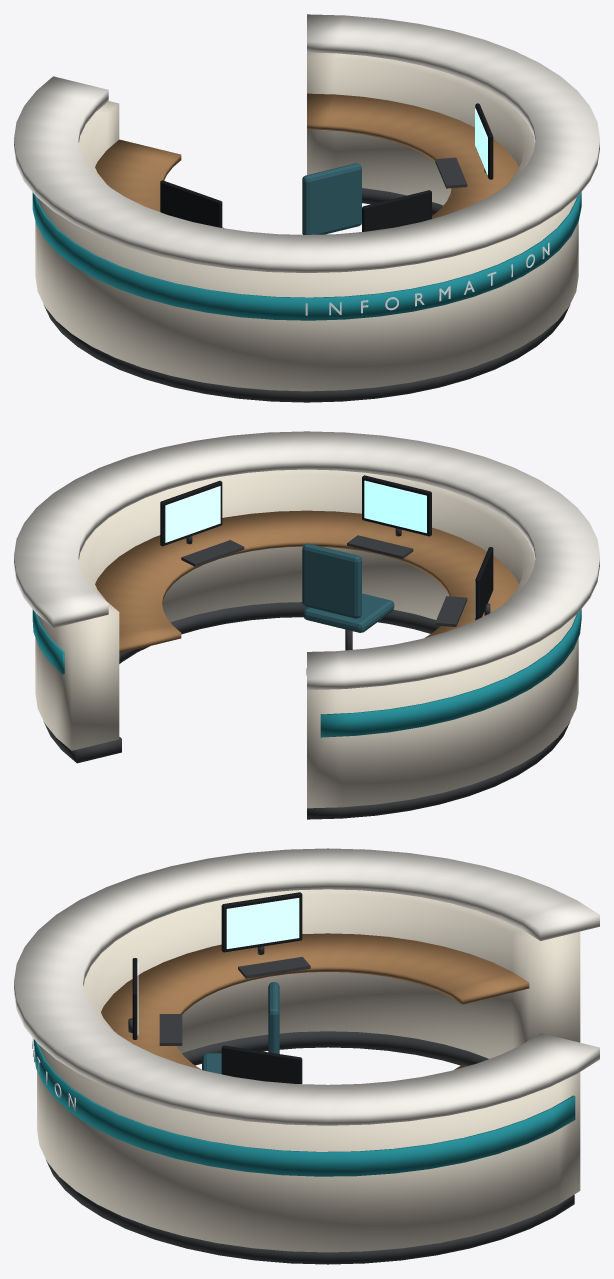
Rendered from round_reception_desk.glb.
3 views of the same model, one above another, from view 1: azimuth 30°, elevation 25°; view 2: azimuth 150°, elevation 25°; view 3: azimuth 270°, elevation 25° (orthographic). The views are drawn at different scales.
Parts seen in each view (by area): view 1: RoundDesk_body, RoundDesk_ledge, RoundDesk_worktop, RoundDesk_band, RoundDesk_plinth, RoundDesk_chairBack, RoundDesk_mon0, RoundDesk_mon1, RoundDesk_kb2, RoundDesk_monGlow2; view 2: RoundDesk_body, RoundDesk_ledge, RoundDesk_worktop, RoundDesk_band, RoundDesk_plinth, RoundDesk_chairBack, RoundDesk_monGlow0, RoundDesk_monGlow2, RoundDesk_chairSeat, RoundDesk_mon1, RoundDesk_mon0, RoundDesk_mon2 (+3 smaller); view 3: RoundDesk_body, RoundDesk_ledge, RoundDesk_worktop, RoundDesk_band, RoundDesk_plinth, RoundDesk_monGlow1, RoundDesk_mon2, RoundDesk_mon1, RoundDesk_kb1, RoundDesk_chairBack, RoundDesk_kb0.
Part boxes in pixels (x1,y1,x2,y2): RoundDesk_body: (35,52,578,391); RoundDesk_ledge: (14,14,599,272); RoundDesk_worktop: (95,93,518,218); RoundDesk_band: (32,192,581,320); RoundDesk_plinth: (44,188,569,402); RoundDesk_chairBack: (302,163,361,234); RoundDesk_mon0: (362,190,431,231); RoundDesk_mon1: (160,180,222,227); RoundDesk_kb2: (435,157,467,188); RoundDesk_monGlow2: (475,108,487,175); RoundDesk_body: (35,469,578,808); RoundDesk_ledge: (14,431,599,689); RoundDesk_worktop: (95,510,518,653); RoundDesk_band: (32,609,581,737); RoundDesk_plinth: (44,602,569,819); RoundDesk_chairBack: (302,543,361,618); RoundDesk_monGlow0: (364,480,426,533); RoundDesk_monGlow2: (165,486,220,542); RoundDesk_chairSeat: (303,593,394,632); RoundDesk_mon1: (475,547,493,620); RoundDesk_mon0: (362,475,431,536); RoundDesk_mon2: (160,480,222,546); RoundDesk_body: (37,889,580,1252); RoundDesk_ledge: (14,848,599,1125); RoundDesk_worktop: (101,933,529,1069); RoundDesk_band: (33,1039,575,1176); RoundDesk_plinth: (46,1031,574,1264); RoundDesk_monGlow1: (226,898,299,948); RoundDesk_mon2: (221,1045,302,1083); RoundDesk_mon1: (221,892,302,952); RoundDesk_kb1: (238,957,310,978); RoundDesk_chairBack: (268,982,279,1053); RoundDesk_kb0: (159,1014,182,1045).
Bounding box in the file's own units: 3.84 × 1.14 × 3.58.
